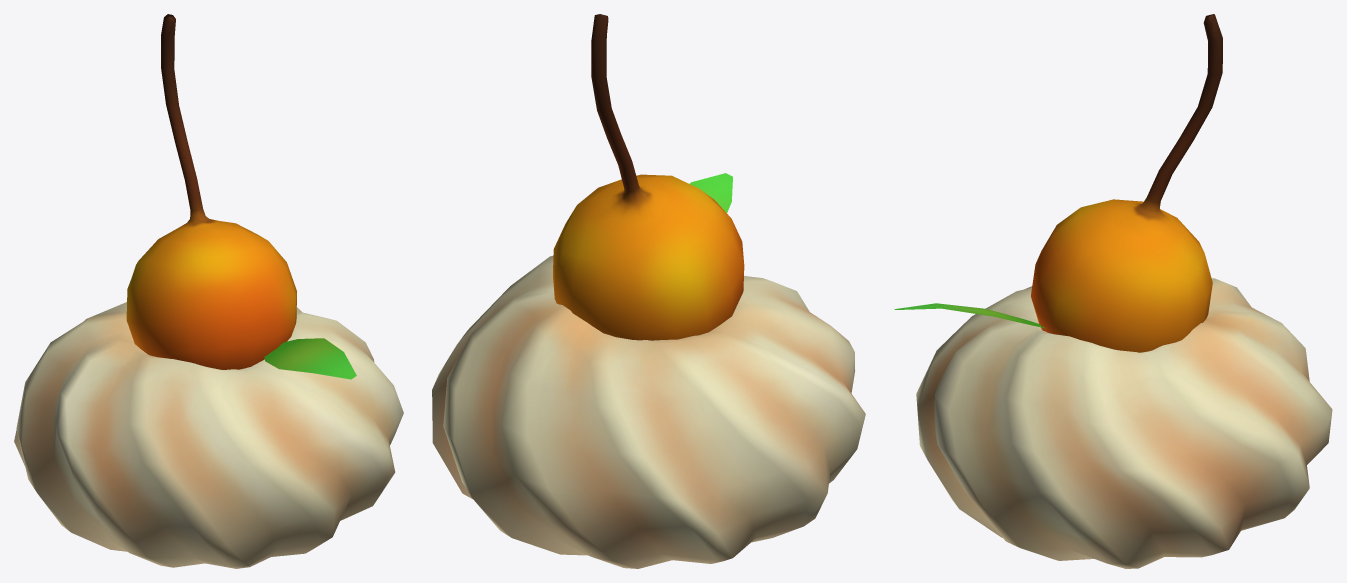
File: cherry.glb
The picture shows the model from 3 angles, left to right: view 1: azimuth 30°, elevation 25°; view 2: azimuth 150°, elevation 25°; view 3: azimuth 270°, elevation 25°; orthographic projection. The views are drawn at different scales.
Visible parts, largest first — view 1: Object_2, Object_4, Object_3; view 2: Object_2, Object_4, Object_3; view 3: Object_2, Object_4, Object_3.
Boxes of the visible parts, x1,y1,x2,y2 form: Object_2: [14, 302, 403, 568]; Object_4: [126, 14, 296, 369]; Object_3: [264, 338, 356, 379]; Object_2: [432, 256, 865, 568]; Object_4: [553, 14, 744, 340]; Object_3: [689, 173, 732, 212]; Object_2: [916, 278, 1332, 568]; Object_4: [1031, 14, 1222, 352]; Object_3: [894, 303, 1046, 328].
Bounding box in the file's own units: 1.55 × 2.18 × 1.66.
Materials: 3 (3 with a texture image).
